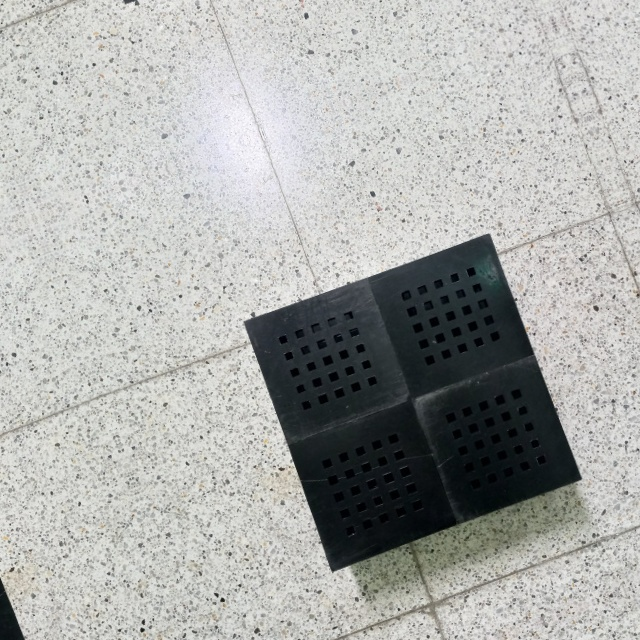pallet: (227, 219, 600, 586)
